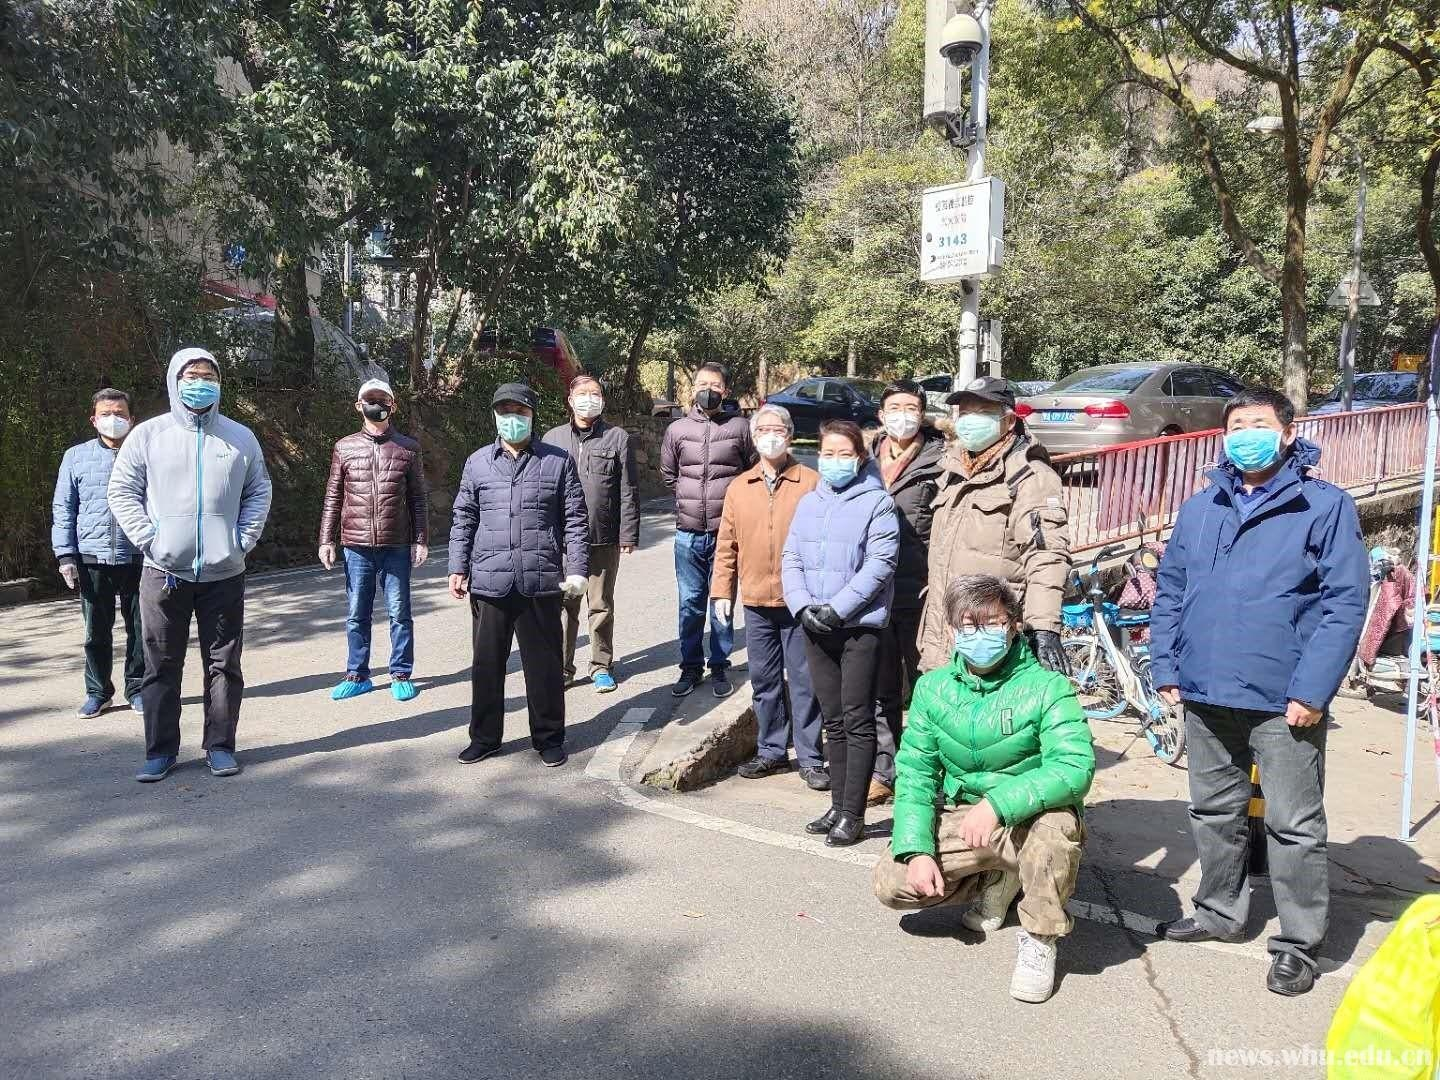correctlyWear: (943, 575, 1020, 670), (1220, 383, 1298, 476), (947, 377, 1016, 453), (816, 424, 870, 489), (876, 382, 927, 440), (747, 406, 793, 459), (175, 368, 223, 411), (491, 402, 535, 446), (86, 402, 134, 434), (362, 386, 400, 424), (695, 380, 730, 413), (568, 393, 603, 423)
